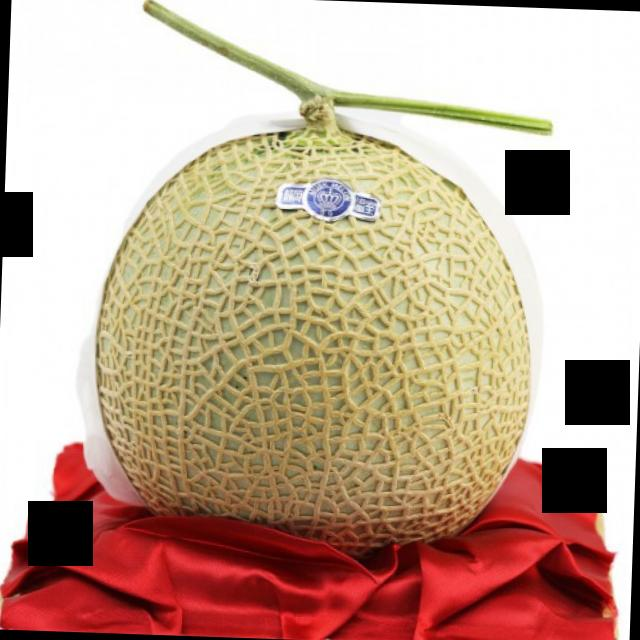melon: (95, 0, 555, 555)
